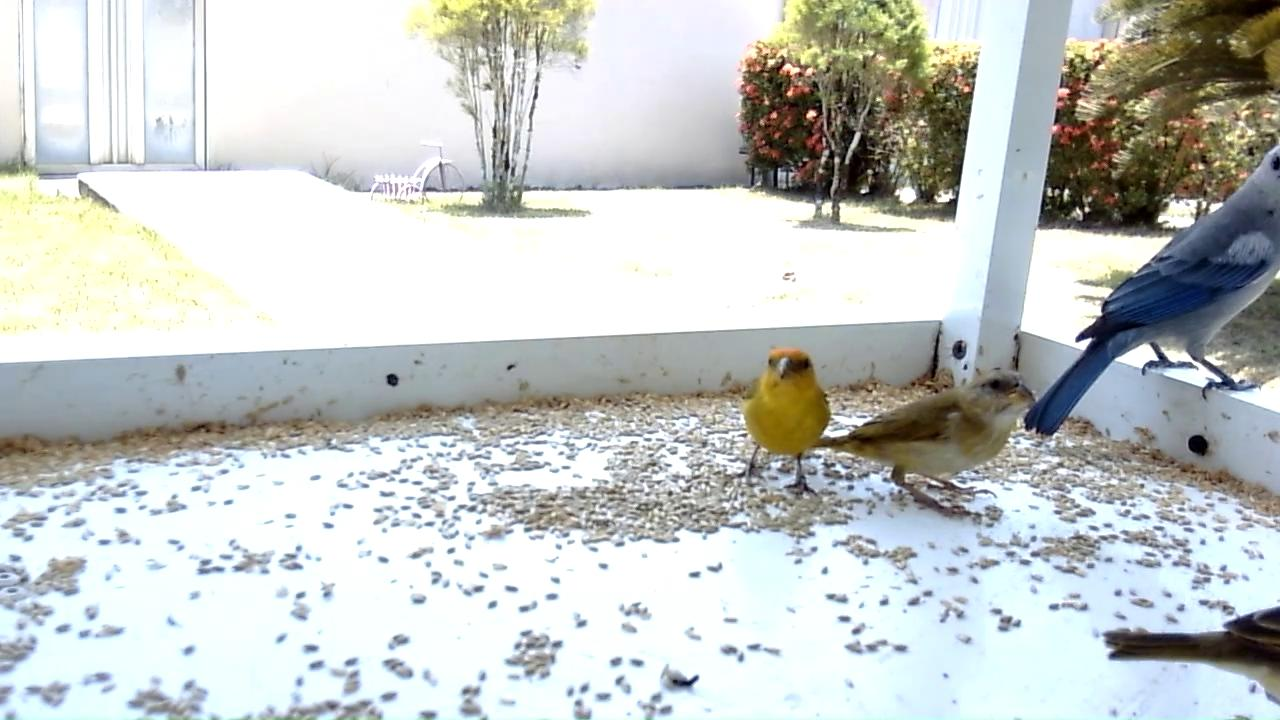canario_do_amazonas: (816, 368, 1031, 520), (1101, 602, 1280, 710), (740, 348, 831, 503)
sanhaco_da_amazonia: (1027, 141, 1280, 438)
